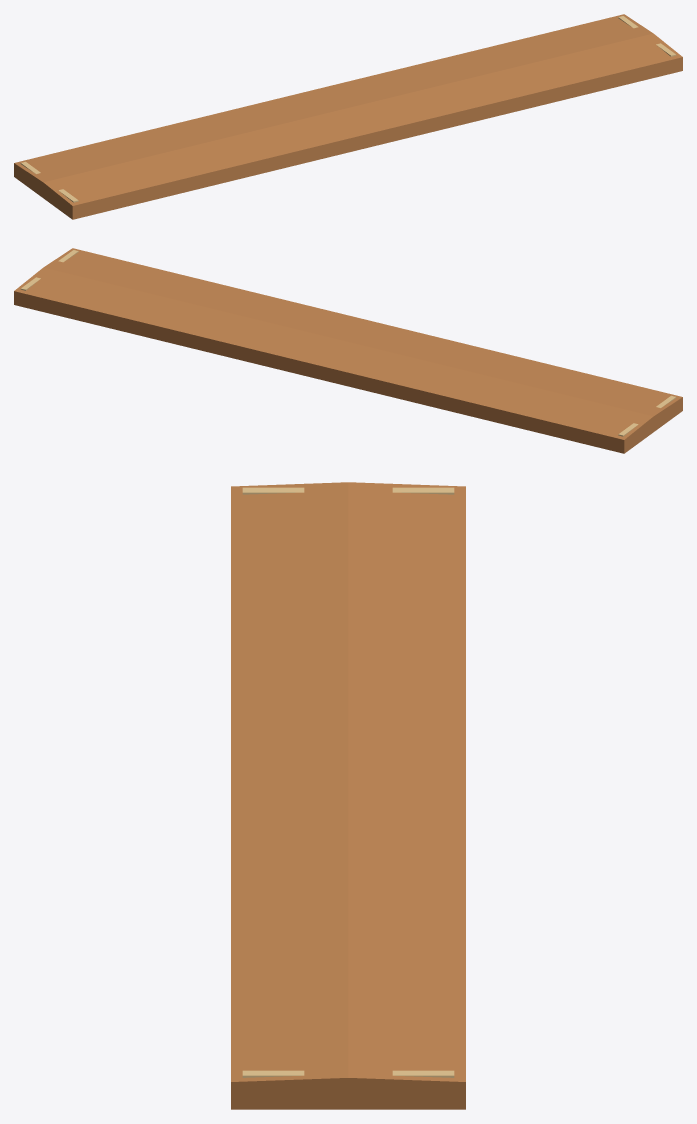
The model's file is plank_1.glb.
3 renders of one model, top to bottom at view 1: azimuth 30°, elevation 25°; view 2: azimuth 150°, elevation 25°; view 3: azimuth 270°, elevation 25°, orthographic. The views are drawn at different scales.
Visible parts, largest first — view 1: plank; view 2: plank; view 3: plank.
Part boxes in pixels (<box>): plank: <box>14,14,682,219</box>; plank: <box>14,248,682,453</box>; plank: <box>231,482,465,1109</box>.
Bounding box in the file's own units: 0.24 × 0.006 × 0.04.
